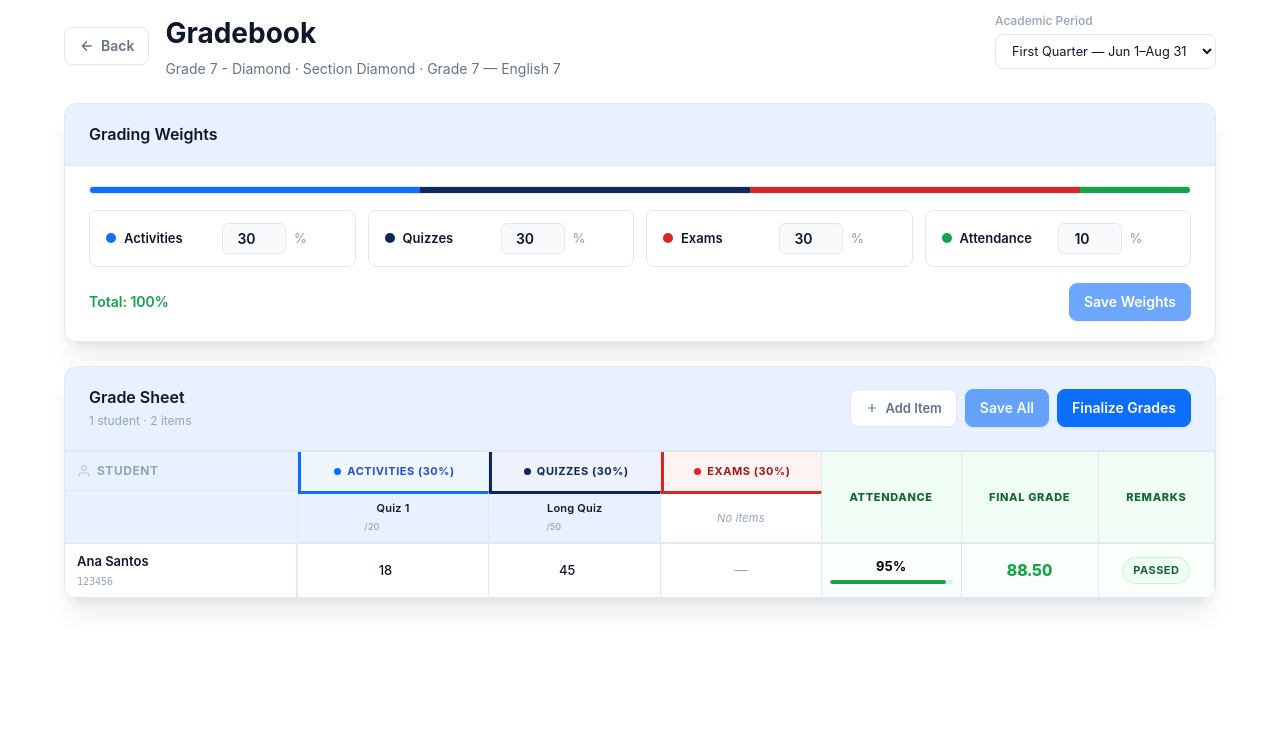
Test: GradebookSubject › validates that grading weights total 100% before saving
The width and height of the screenshot is (1280, 732).
Expected: the text "Ana Santos" is shown, [77,553,148,569]
Clear the 1st number field at (254, 238), box [222,223,286,254]
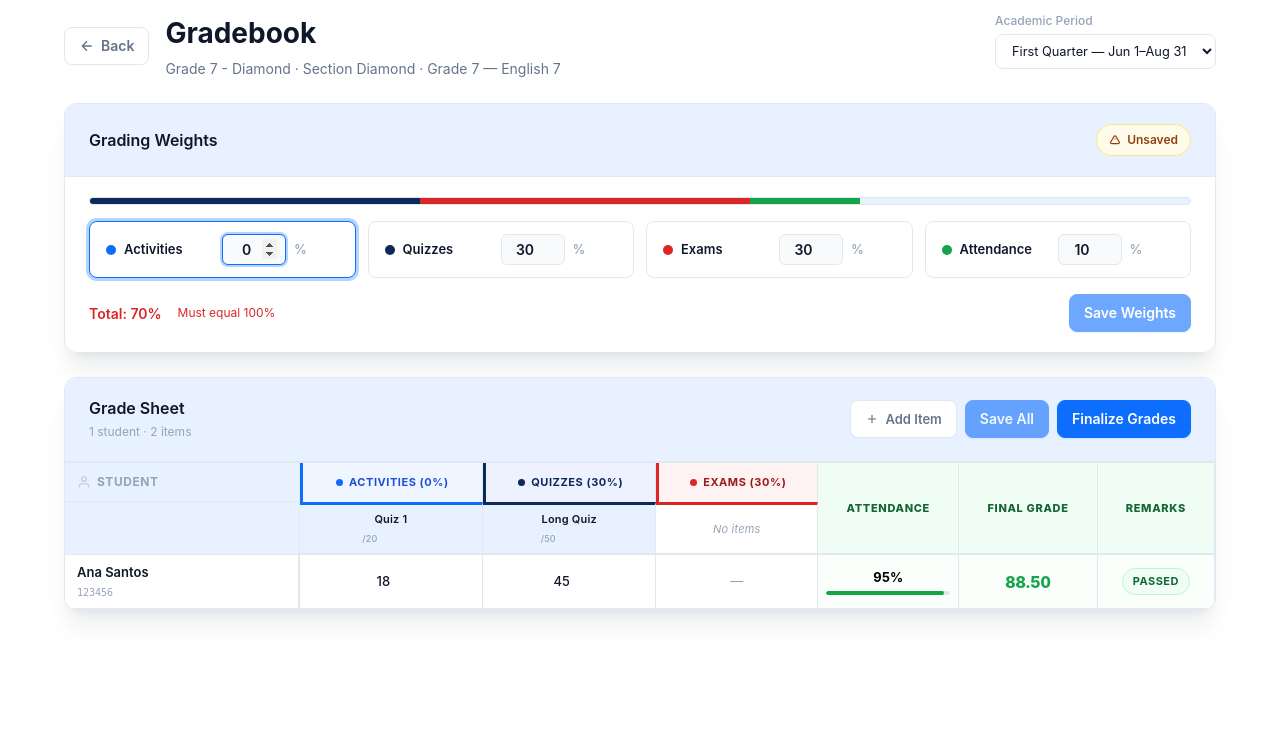
Type "40" into the 1st number field at (254, 250), box [222,234,286,265]
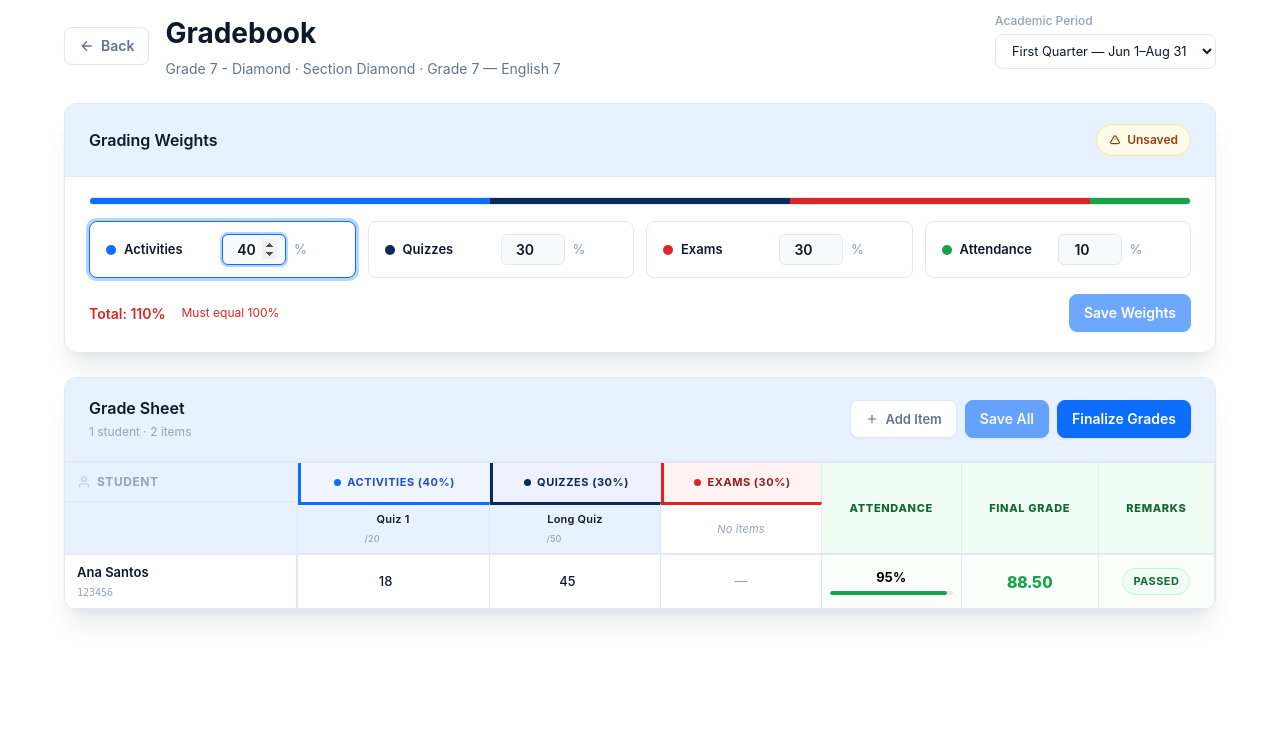
Expected: the button "Save Weights" is disabled, [1069,294,1191,332]
Now the text "Must equal 100%" is shown, box [182,304,279,322]
Now the text "Total: 110%" is shown, box [89,302,166,324]
Replace the text in the 2nd number field with "20" at (532, 250), box [500,234,564,265]
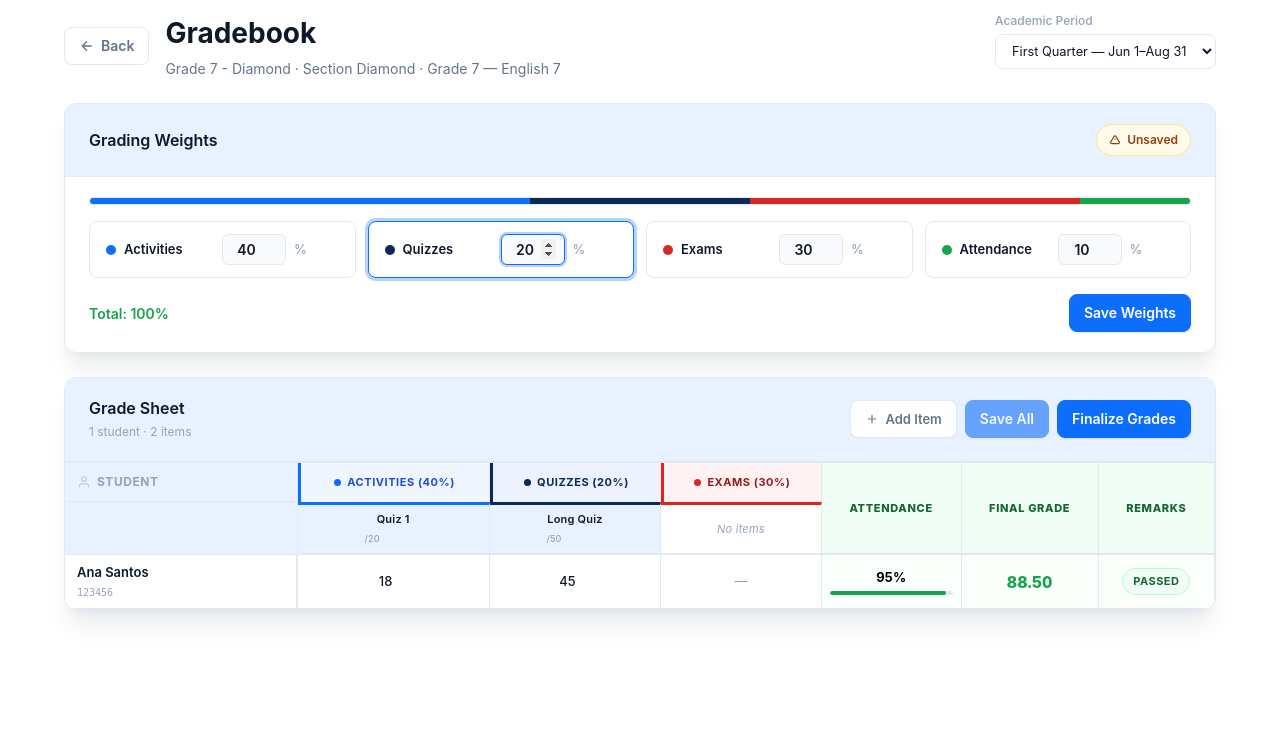
Now the text "Total: 100%" is shown, box [89,302,169,324]
Now the button "Save Weights" is enabled
Click the button "Save Weights" at (1130, 313), box [1069,294,1191,332]
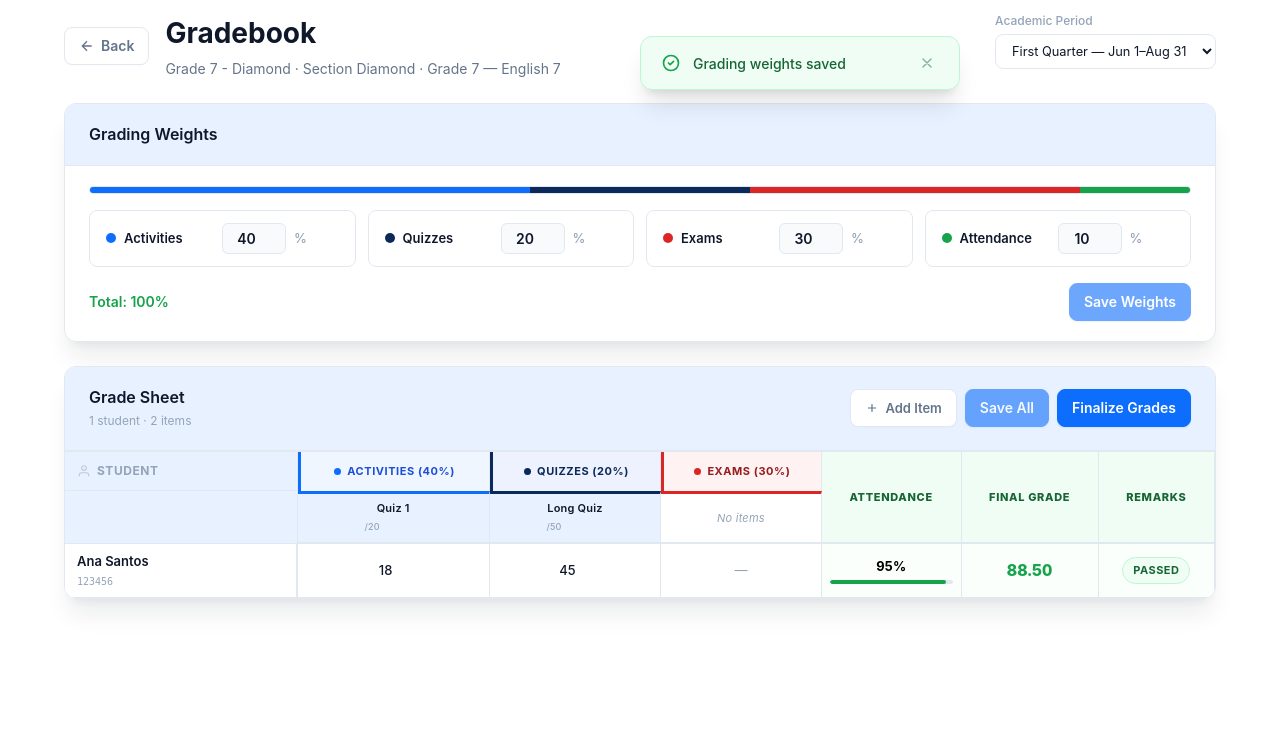
Now the text "Grading weights saved" is shown, box [693,54,846,72]
